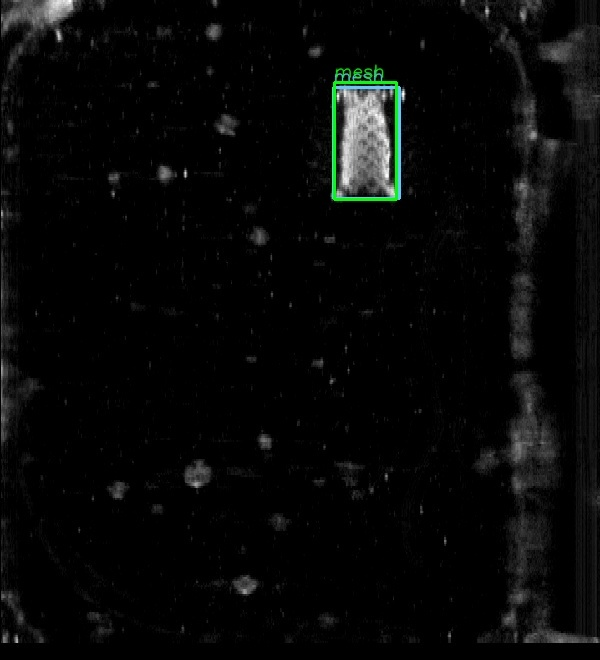mesh: (333, 87, 399, 198)
